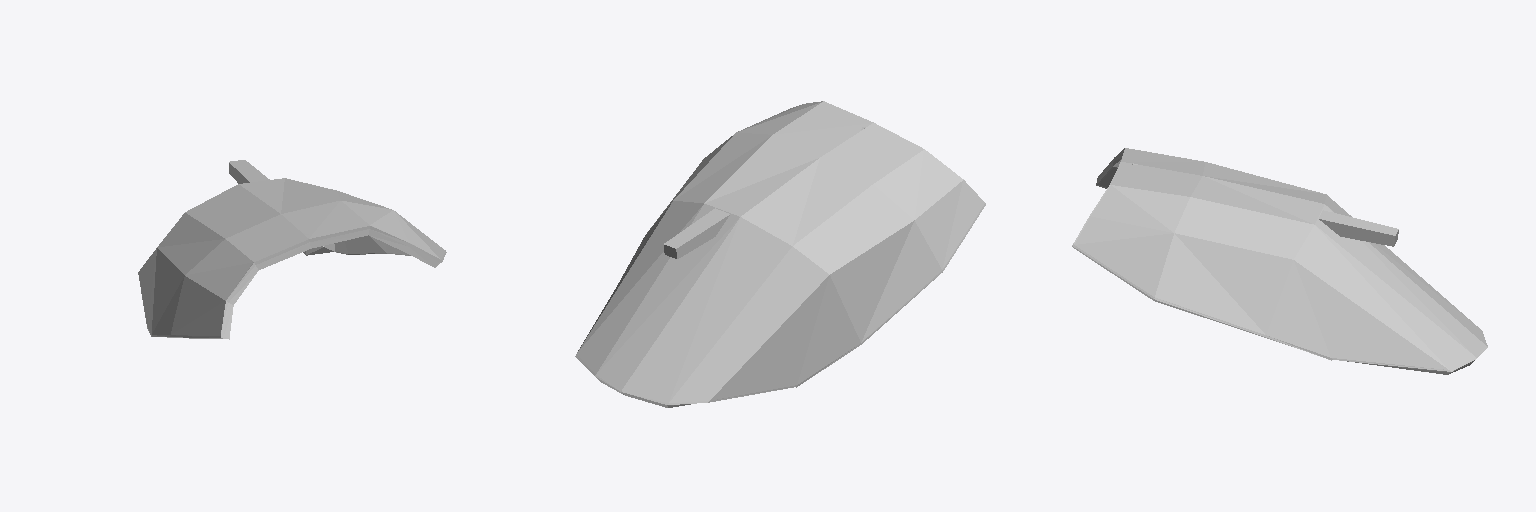
File: flyE.obj
3 renders of one model, left to right at view 1: azimuth 30°, elevation 25°; view 2: azimuth 150°, elevation 25°; view 3: azimuth 270°, elevation 25°, orthographic.
Visible parts, largest first — view 1: IronMan1:null_93, IronMan1:null_193; view 2: IronMan1:null_93, IronMan1:null_193; view 3: IronMan1:null_93, IronMan1:null_193.
Boxes of the visible parts, <box> form: IronMan1:null_93: <box>138,178,446,339</box>; IronMan1:null_193: <box>229,160,334,255</box>; IronMan1:null_93: <box>575,101,985,407</box>; IronMan1:null_193: <box>664,127,865,258</box>; IronMan1:null_93: <box>1072,148,1487,374</box>; IronMan1:null_193: <box>1132,163,1398,246</box>.
Bounding box in the file's own units: 2.21 × 1.39 × 3.05.